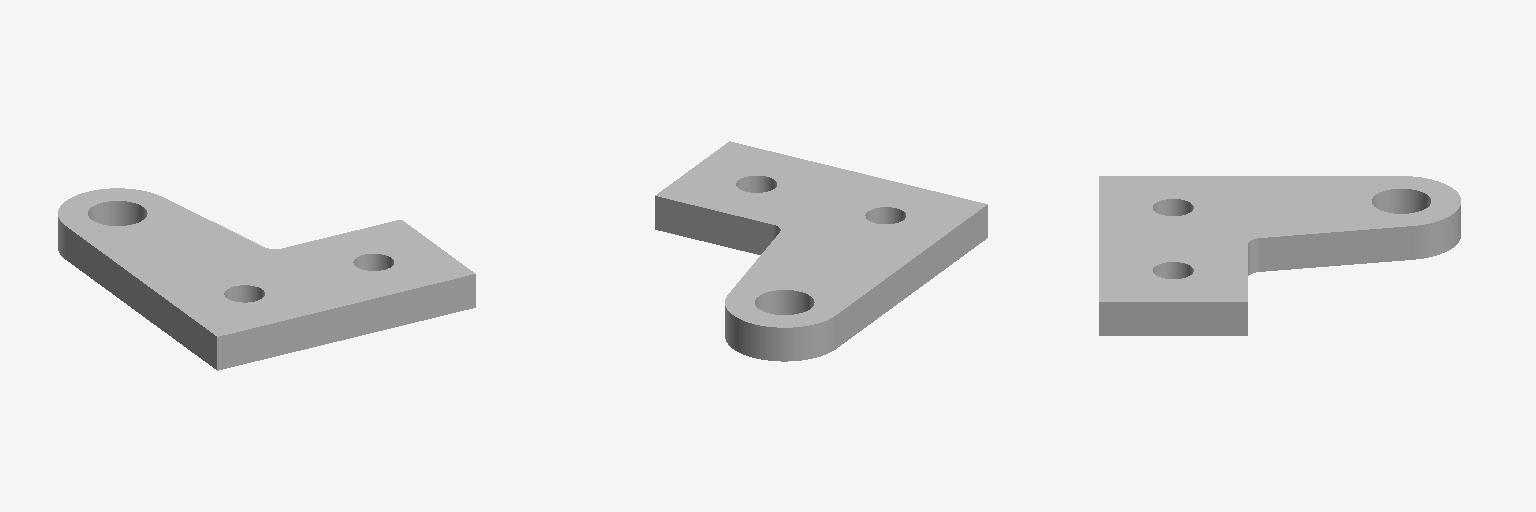
Rendered from rear_roller_2x.obj.
3 views of the same model, side by side, from view 1: azimuth 30°, elevation 25°; view 2: azimuth 150°, elevation 25°; view 3: azimuth 270°, elevation 25° (orthographic).
Parts seen in each view (by area): view 1: rear_roller_2x; view 2: rear_roller_2x; view 3: rear_roller_2x.
Part boxes in pixels (left/top/right/bottom): rear_roller_2x: left=58, top=188, right=475, bottom=370; rear_roller_2x: left=655, top=141, right=987, bottom=361; rear_roller_2x: left=1099, top=176, right=1460, bottom=335.
Bounding box in the file's own units: 40 × 5 × 48.61.